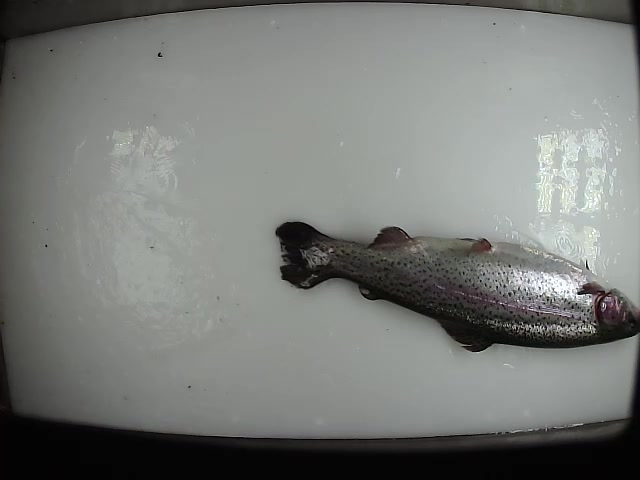fish: (275, 220, 640, 357)
